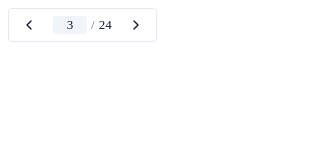
Scenario: Task 3.8: Page indicator ("3 / 24"), go to page, and keyboard navigation (PgUp / PgDn / Home / End) › allows click to edit page number with clamping validation
The image size is (320, 160).
Later steps or results of the test are not shown.
Click the text with test id "page-number-display". click: click(70, 25)
box: x1=53 y1=16 x2=87 y2=34
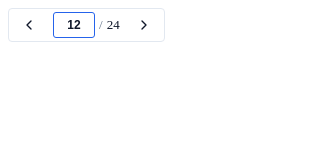
expect the field with test id "page-input-field" is shown: met, box x1=53 y1=12 x2=95 y2=38
